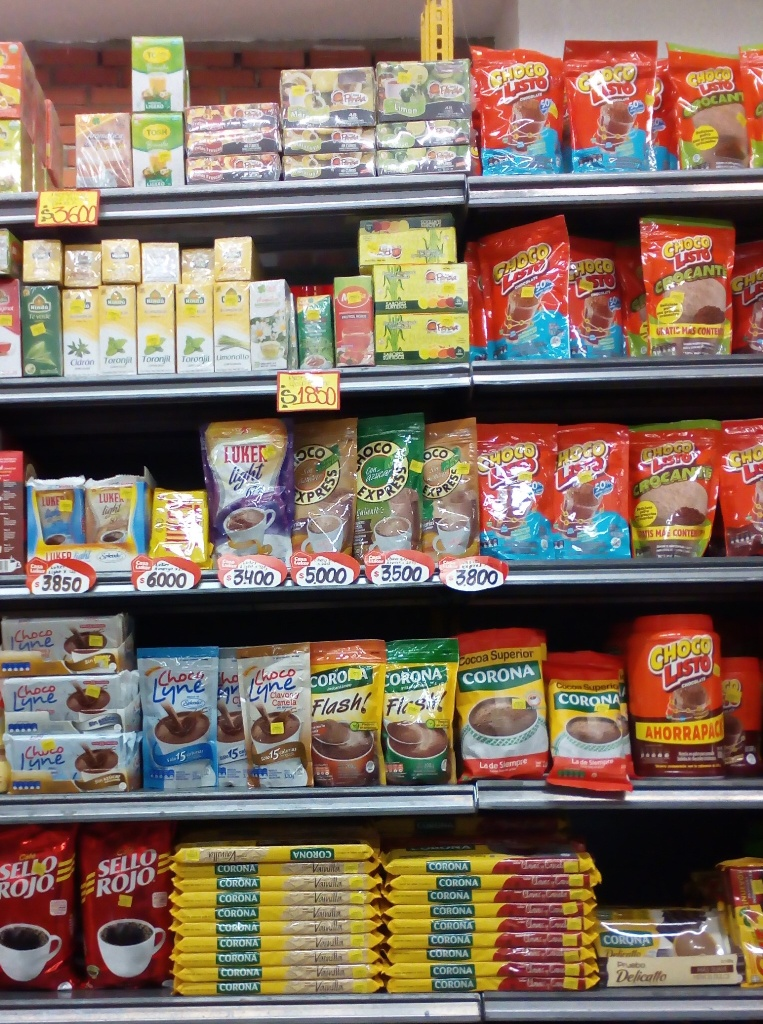COL0170103TRR00100: (625, 607, 727, 782)
